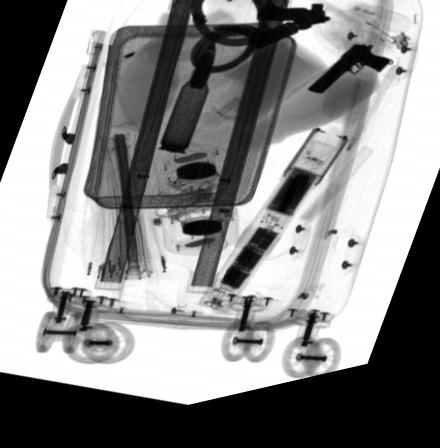Baton: (194, 142, 349, 326)
Bullet: (155, 46, 216, 165)
Gun: (305, 59, 392, 109)
HandCuffs: (186, 0, 328, 85)
